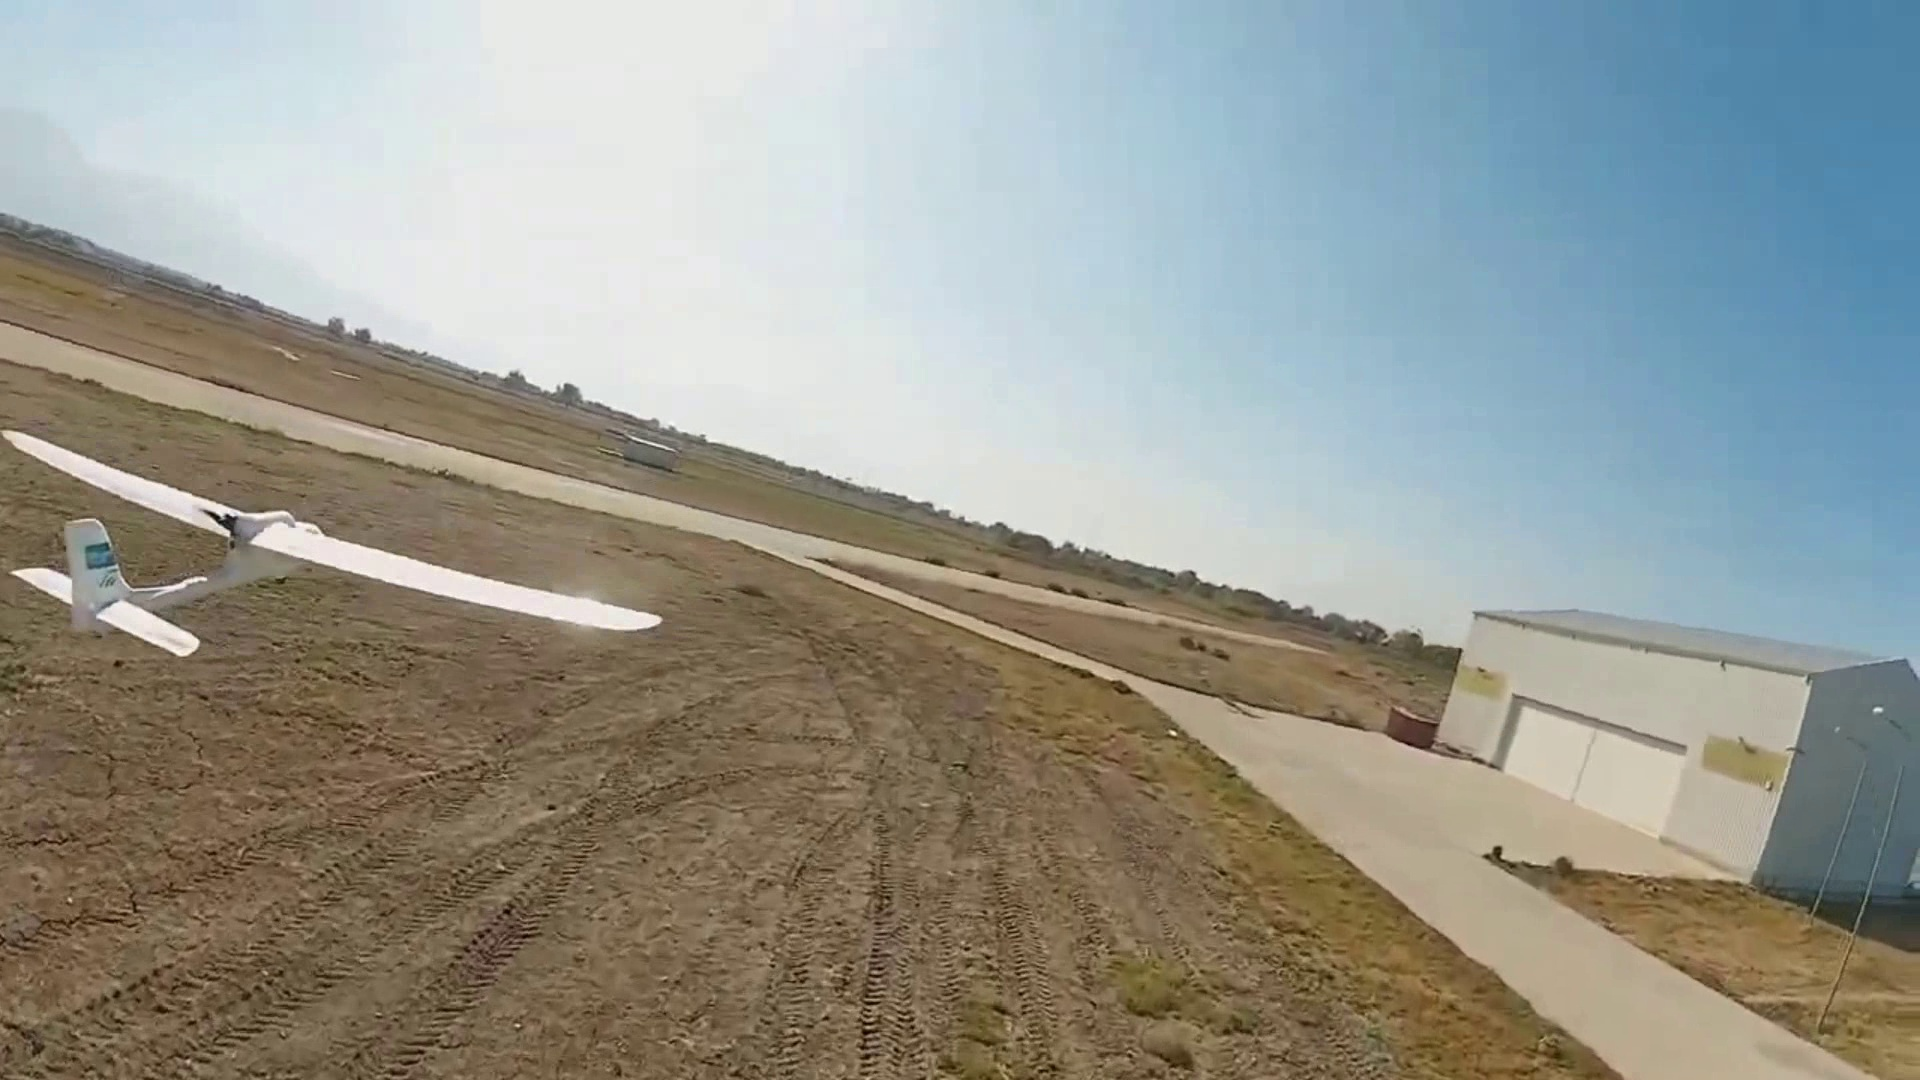airplane: (1, 426, 661, 657)
